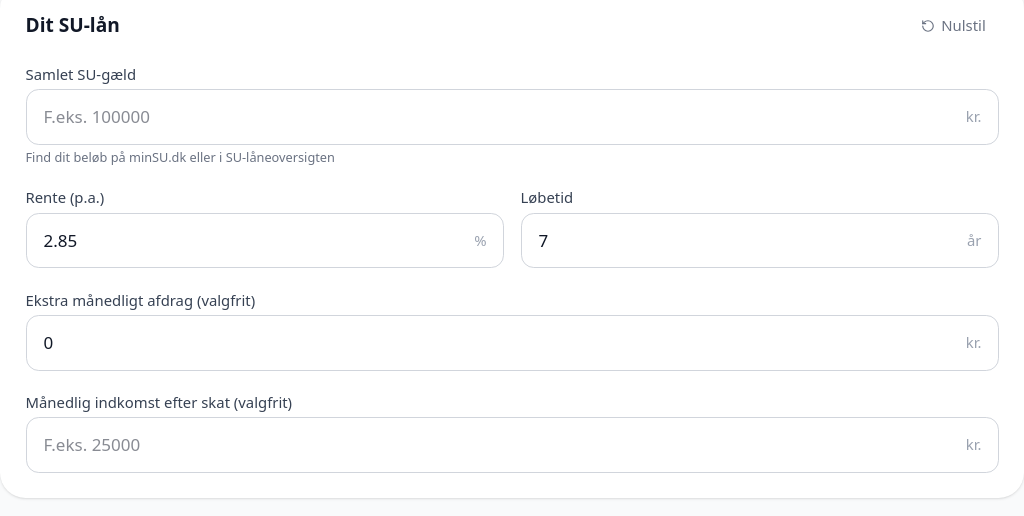
StudielaanBeregner › afviser negative tal uden at beregne en ugyldig rente
Type "-1" into the number field labelled "Samlet SU-gæld".
click(512, 117); type("-1")  # box [26, 89, 998, 145]
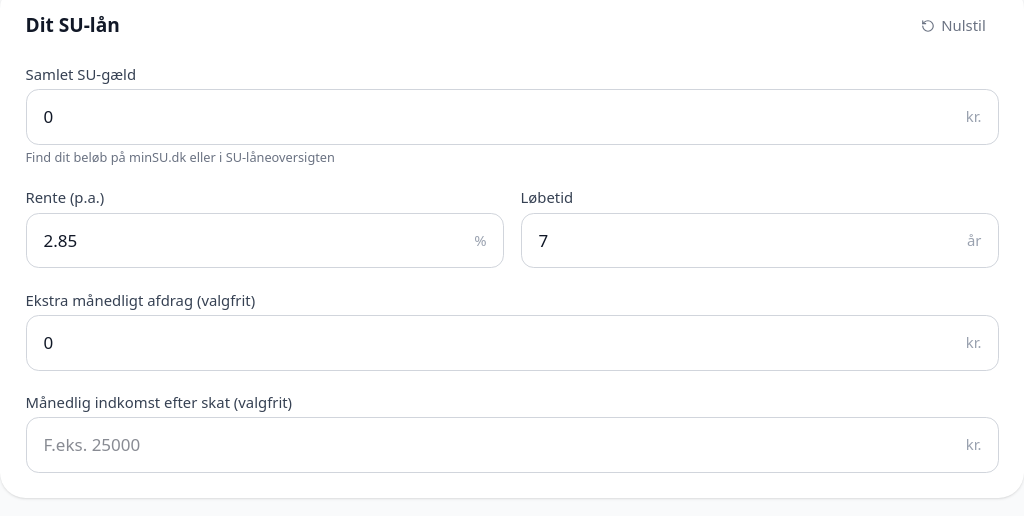
Expected: the number field labelled "Samlet SU-gæld" holds "0", [26, 89, 998, 145]
